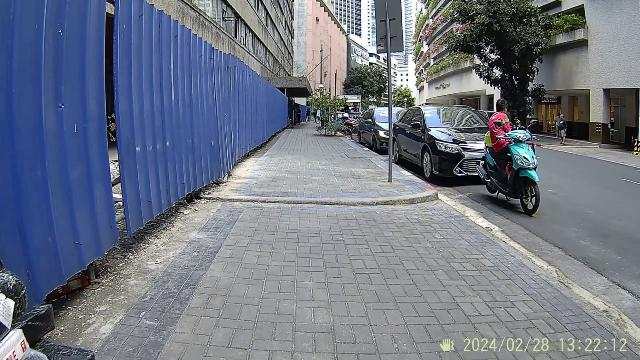motorcycle: (484, 124, 546, 218)
street_sign: (375, 0, 405, 162)
street_vendor_cart: (1, 261, 42, 359)
